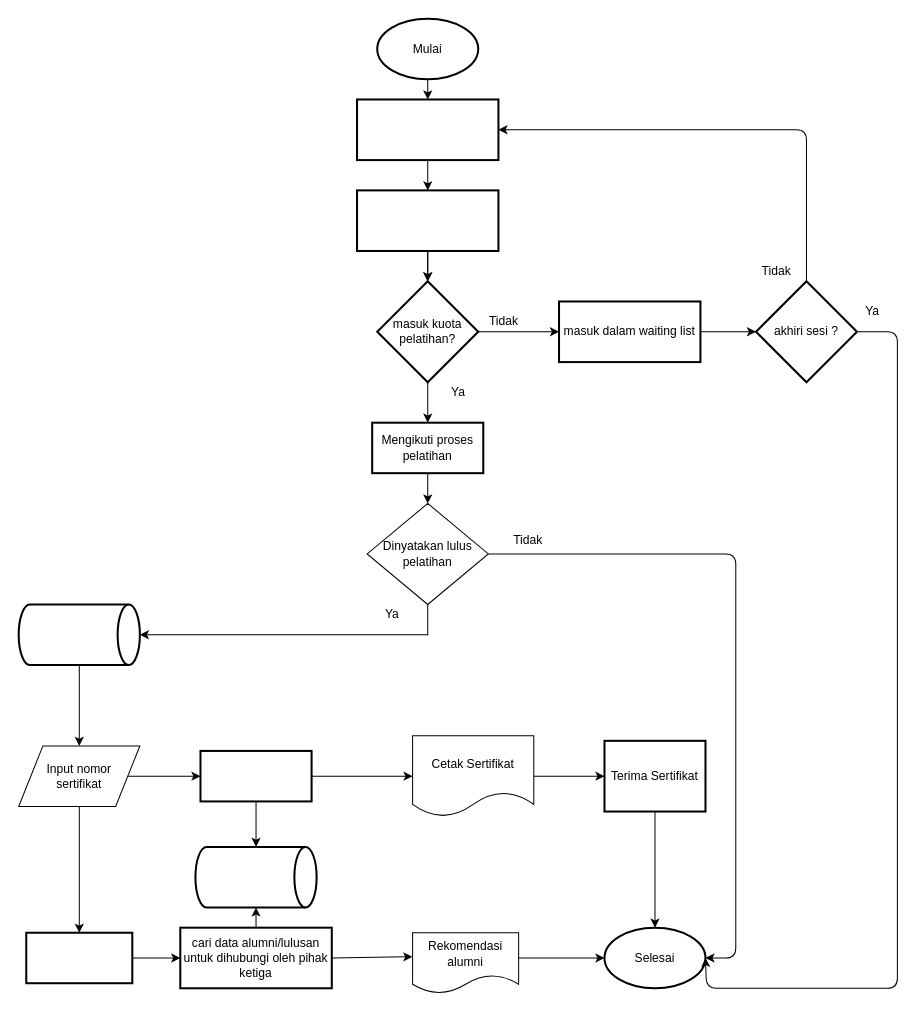
The diagram is 923 pixels wide and 1014 high, and some of its shapes have lost their labels. The centre of each missing label's shape, as x and y in pixels:
Cek validasi sertifikat: point 255,775
daftar pelatihan: point 427,129
Data aumni: point 255,876
Didata sbagai alumni: point 78,634
Pilih pelatihan: point 427,220
Request SDM bidang tertentu: point 79,957
